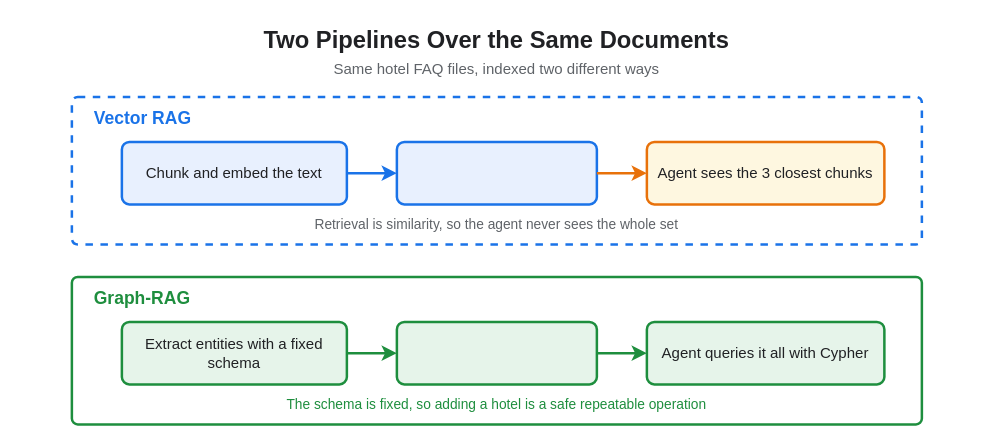
The diagram is 993 pixels wide and 446 high, and some of its shapes have lost their labels. Each missing label, with the box of its shape:
FAISS vector index: (395, 140, 598, 205)
Neo4j graph: (395, 320, 598, 385)
